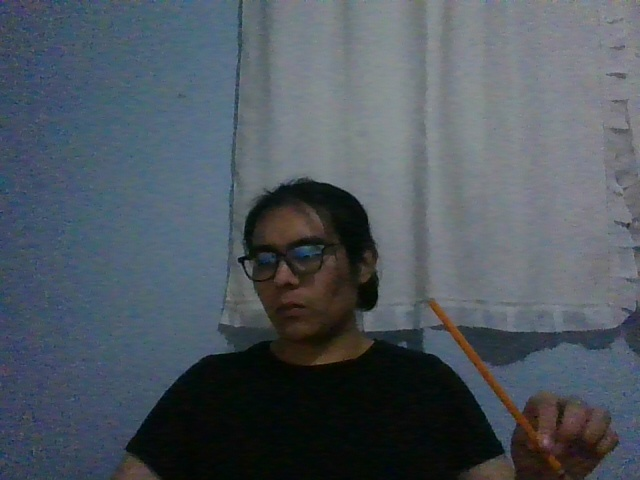lapiz: (427, 297, 571, 480)
